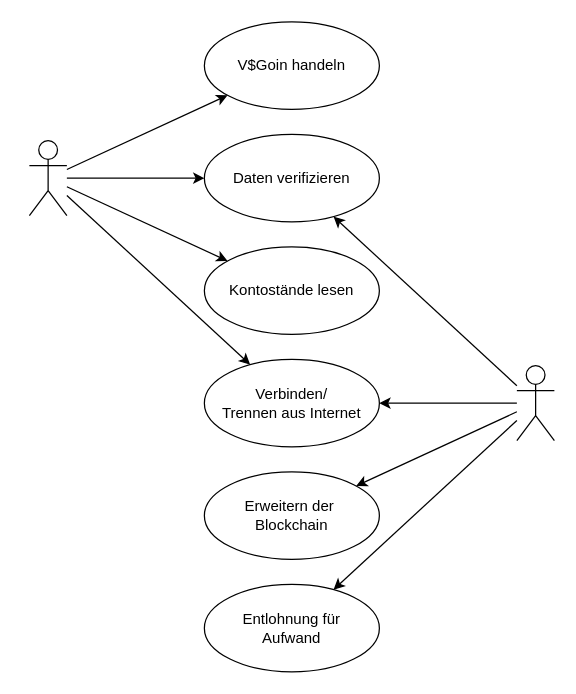
The diagram is 576 pixels wide and 694 high, and some of its shapes have lost their labels. Each missing label, with the box of its shape:
Händler: (28, 139, 67, 216)
Miner: (516, 364, 554, 441)
